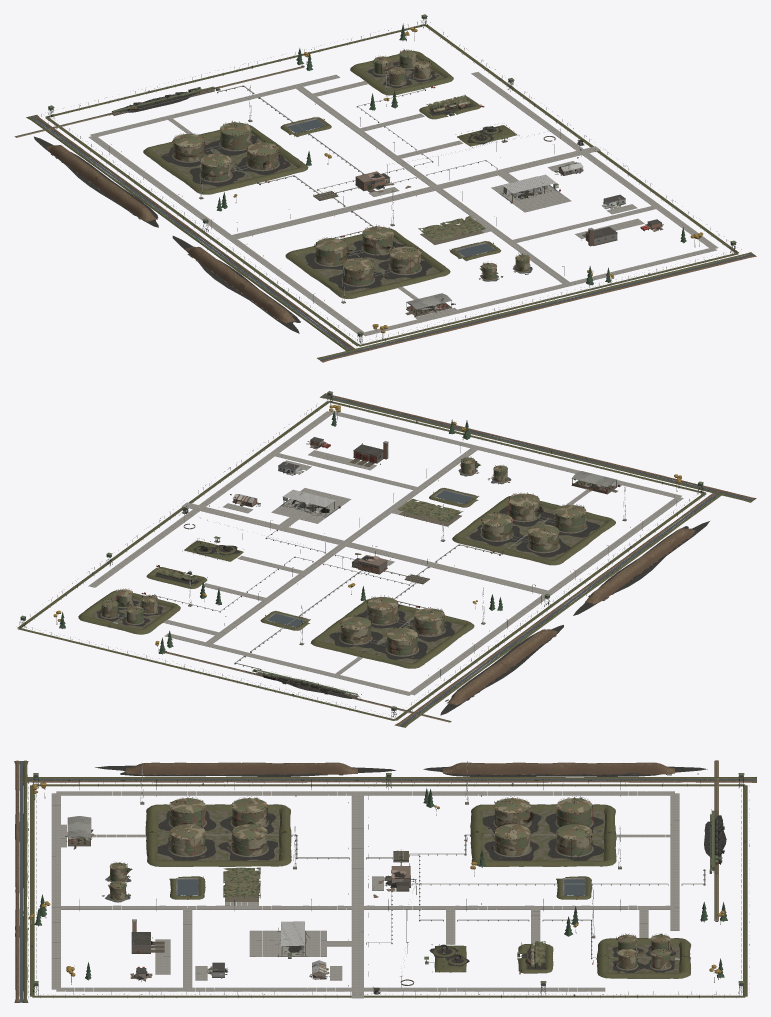
Rendered from site_fuel_a.glb.
3 renders of one model, top to bottom at view 1: azimuth 30°, elevation 25°; view 2: azimuth 150°, elevation 25°; view 3: azimuth 270°, elevation 25°, orthographic. The views are drawn at different scales.
Visible parts, largest first — view 1: deco|F_A, deco|tile_conc, b_peat|F_A, deco|F_glassF, b_peat_ruin|F_B, deco_trees|F_A, b_t2|F_A, b_t6|F_A, b_t4|F_A, b_t7|F_A, b_t5|F_A, b_t1|F_A (+10 smaller); view 2: deco|F_A, deco|tile_conc, b_peat|F_A, deco|F_glassF, b_peat_ruin|F_B, deco_trees|F_A, b_t5|F_A, b_t3|F_A, b_t4|F_A, b_t8|F_A, b_t1|F_A, b_t2|F_A (+10 smaller); view 3: deco|F_A, deco|tile_conc, b_peat|F_A, deco|F_glassF, b_peat_ruin|F_B, deco_trees|F_A, b_t8|F_A, b_t6|F_A, b_t2|F_A, b_t4|F_A, b_t5|F_A, b_t7|F_A (+20 smaller).
Boxes of the visible parts, x1,y1,x2,y2 form: deco|F_A: (14,14,756,362); deco|tile_conc: (88,72,718,336); b_peat|F_A: (46,145,295,323); deco|F_glassF: (31,16,754,360); b_peat_ruin|F_B: (34,136,300,333); deco_trees|F_A: (216,23,703,339); b_t2|F_A: (245,141,279,171); b_t6|F_A: (387,245,421,275); b_t4|F_A: (217,121,252,151); b_t7|F_A: (314,237,349,266); b_t5|F_A: (341,256,376,286); b_t1|F_A: (199,152,233,182); deco|F_A: (17,391,756,727); deco|tile_conc: (88,410,683,695); b_peat|F_A: (447,528,696,705); deco|F_glassF: (21,393,753,726); b_peat_ruin|F_B: (440,521,709,715); deco_trees|F_A: (53,405,681,654); b_t5|F_A: (552,503,587,533); b_t3|F_A: (384,626,418,656); b_t4|F_A: (339,615,373,645); b_t8|F_A: (480,512,514,541); b_t1|F_A: (411,607,445,636); b_t2|F_A: (365,595,400,625); deco|F_A: (14,760,756,1002); deco|tile_conc: (51,791,690,998); b_peat|F_A: (126,762,674,775); deco|F_glassF: (19,761,756,1002); b_peat_ruin|F_B: (95,763,707,776); deco_trees|F_A: (28,782,727,984); b_t8|F_A: (230,823,268,857); b_t6|F_A: (167,823,206,857); b_t2|F_A: (492,823,531,857); b_t4|F_A: (555,823,593,857); b_t5|F_A: (168,796,206,827); b_t7|F_A: (230,796,269,827).
Size of the model in its own units: 370 by 34.79 by 480.
72 materials, 54 textured.
